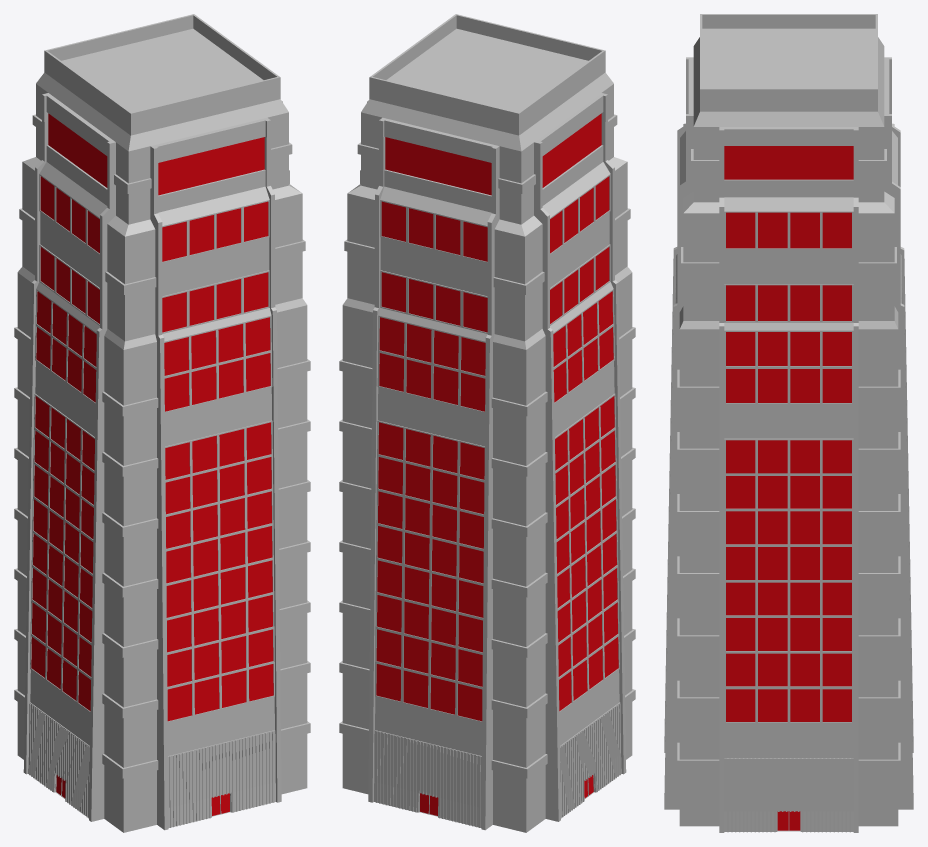
File: SM_skyscraper_05.gltf
3 renders of one model, left to right at view 1: azimuth 30°, elevation 25°; view 2: azimuth 150°, elevation 25°; view 3: azimuth 270°, elevation 25°, orthographic. The views are drawn at different scales.
Parts seen in each view (by area): view 1: skyscraper_05; view 2: skyscraper_05; view 3: skyscraper_05.
Boxes of the visible parts, bbox=[...] form: skyscraper_05: bbox=[14, 14, 310, 832]; skyscraper_05: bbox=[339, 14, 635, 832]; skyscraper_05: bbox=[664, 14, 913, 832].
Size of the model in its own units: 30 by 96.67 by 30.
